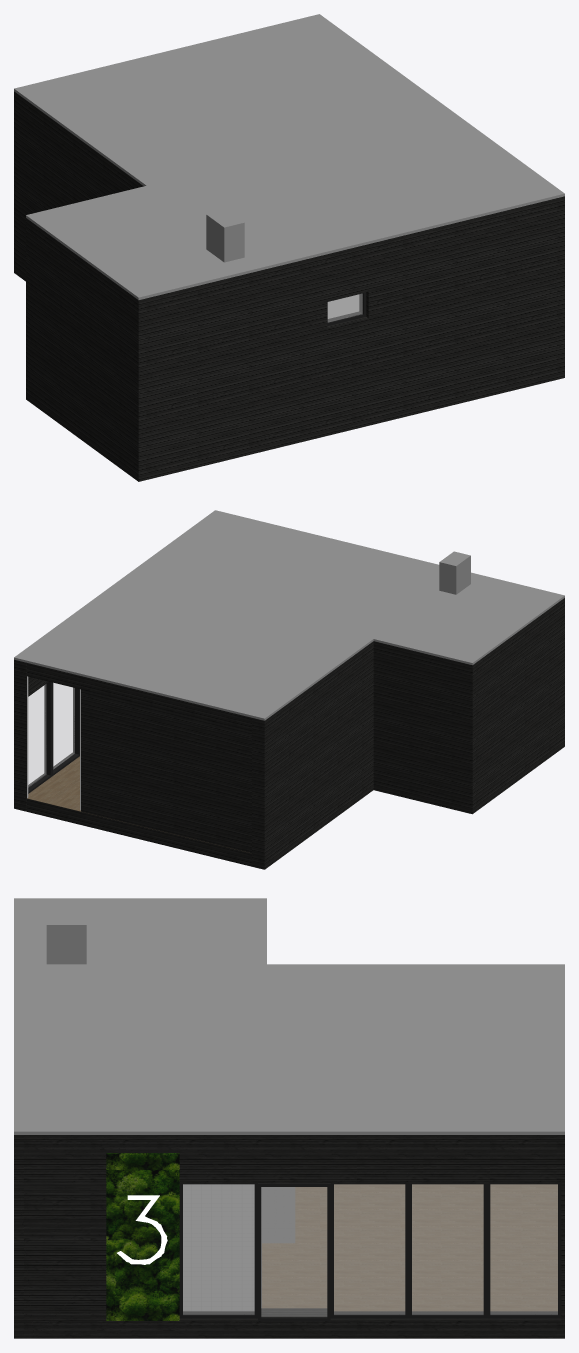
Rendered from Module1.glb.
The picture shows the model from 3 angles, top to bottom: view 1: azimuth 30°, elevation 25°; view 2: azimuth 150°, elevation 25°; view 3: azimuth 270°, elevation 25°; orthographic projection. The views are drawn at different scales.
Visible parts, largest first — view 1: Темное дерево, Этаж по умолчанию, Стена по умолчанию, Стекло, Штукатурка; view 2: Темное дерево, Этаж по умолчанию, Стекло, Черный, Пол деревянное покрытие, Стена по умолчанию; view 3: Этаж по умолчанию, Темное дерево, Стекло, Пол деревянное покрытие, Живая стена, Пол плитка, Черный, Стена по умолчанию, Перегородка, Свет.
Boxes of the visible parts, bbox=[...] form: Темное дерево: bbox=[14, 91, 564, 481]; Этаж по умолчанию: bbox=[14, 14, 564, 300]; Стена по умолчанию: bbox=[206, 209, 244, 262]; Стекло: bbox=[328, 294, 362, 322]; Штукатурка: bbox=[327, 294, 359, 318]; Темное дерево: bbox=[14, 598, 564, 869]; Этаж по умолчанию: bbox=[14, 510, 564, 720]; Стекло: bbox=[28, 683, 74, 786]; Черный: bbox=[28, 681, 79, 793]; Пол деревянное покрытие: bbox=[27, 756, 249, 852]; Стена по умолчанию: bbox=[439, 551, 470, 594]; Этаж по умолчанию: bbox=[14, 898, 564, 1134]; Темное дерево: bbox=[14, 1135, 564, 1338]; Стекло: bbox=[183, 1184, 557, 1316]; Пол деревянное покрытие: bbox=[262, 1184, 557, 1311]; Живая стена: bbox=[106, 1153, 179, 1320]; Пол плитка: bbox=[183, 1184, 261, 1311]; Черный: bbox=[179, 1183, 561, 1321]; Стена по умолчанию: bbox=[46, 914, 86, 964]; Перегородка: bbox=[262, 1187, 295, 1243]; Свет: bbox=[117, 1195, 167, 1264].
Size of the model in its own units: 8.32 by 4.08 by 8.27.
Materials: 13 (8 with a texture image).
